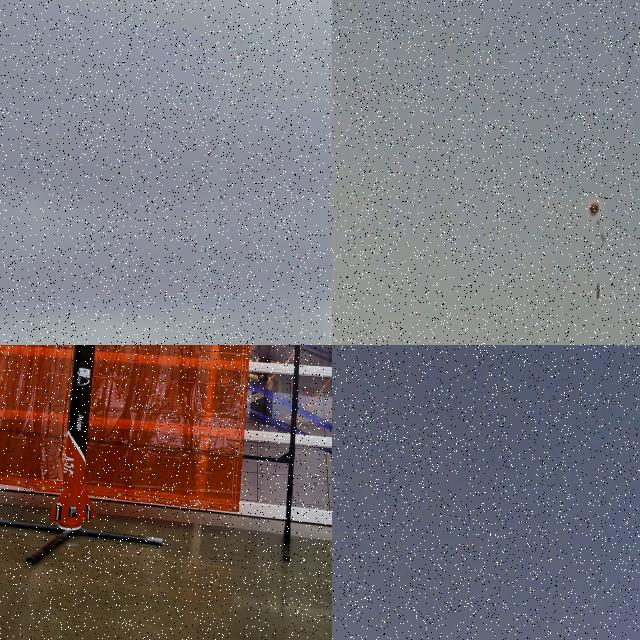Rocket: (50, 345, 97, 528), (236, 39, 243, 56), (596, 282, 600, 300)
